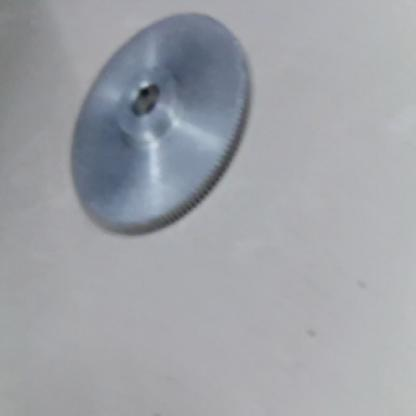FOD: (62, 9, 252, 248)
